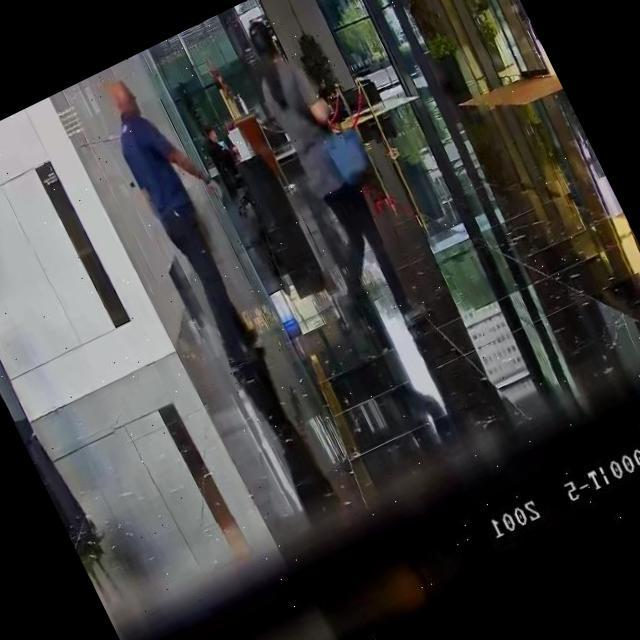person: (90, 58, 296, 378), (230, 8, 423, 324), (201, 120, 244, 178)
